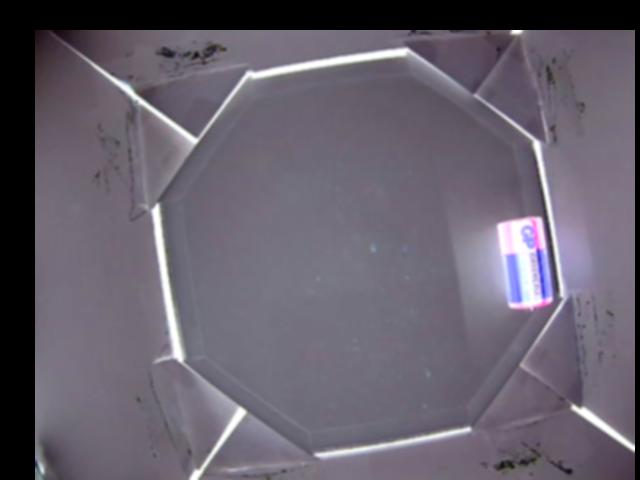Battery: (499, 215, 555, 313)
